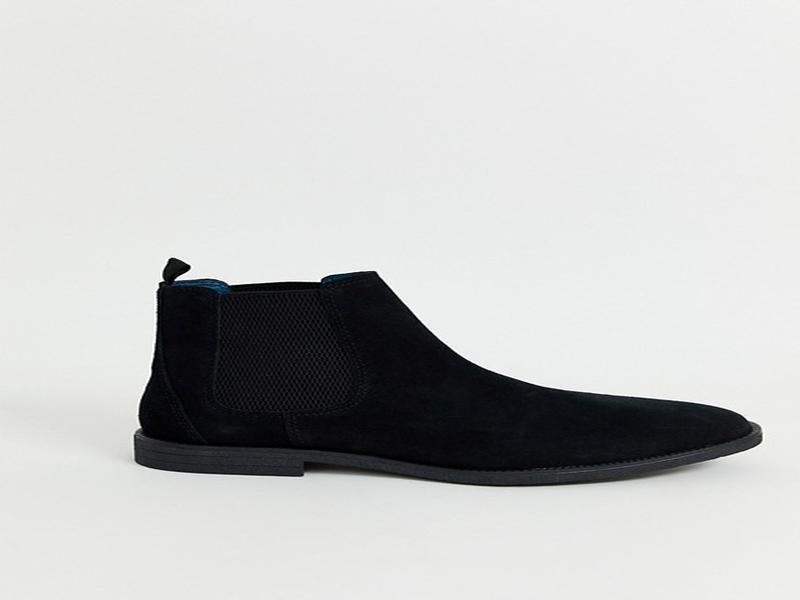shoes_men_chelsea_chelseaboots_suede_none_none_black_none: (134, 259, 773, 498)
